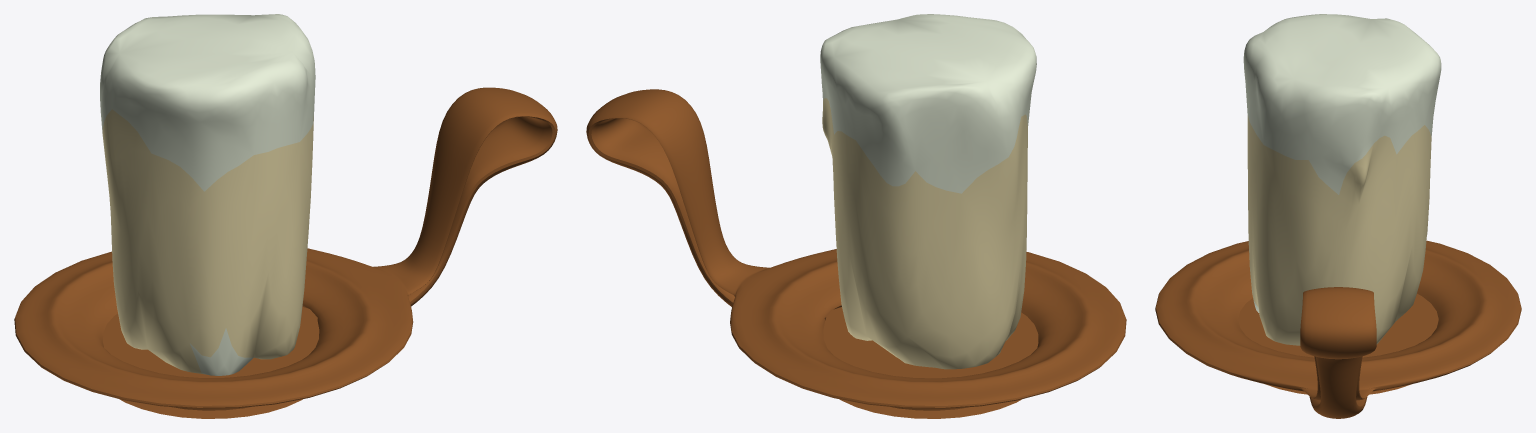
Rendered from DeskCandle.fbx.
The picture shows the model from 3 angles, left to right: view 1: azimuth 30°, elevation 25°; view 2: azimuth 150°, elevation 25°; view 3: azimuth 270°, elevation 25°; orthographic projection. The views are drawn at different scales.
Visible parts, largest first — view 1: Cylinder.012, Circle; view 2: Cylinder.012, Circle; view 3: Cylinder.012, Circle.
Boxes of the visible parts, x1,y1,x2,y2 form: Cylinder.012: [100, 14, 315, 375]; Circle: [14, 87, 557, 418]; Cylinder.012: [820, 14, 1036, 369]; Circle: [586, 89, 1126, 418]; Cylinder.012: [1243, 14, 1441, 345]; Circle: [1155, 240, 1521, 418].
Bounding box in the file's own units: 29.89 × 27.35 × 44.15.
